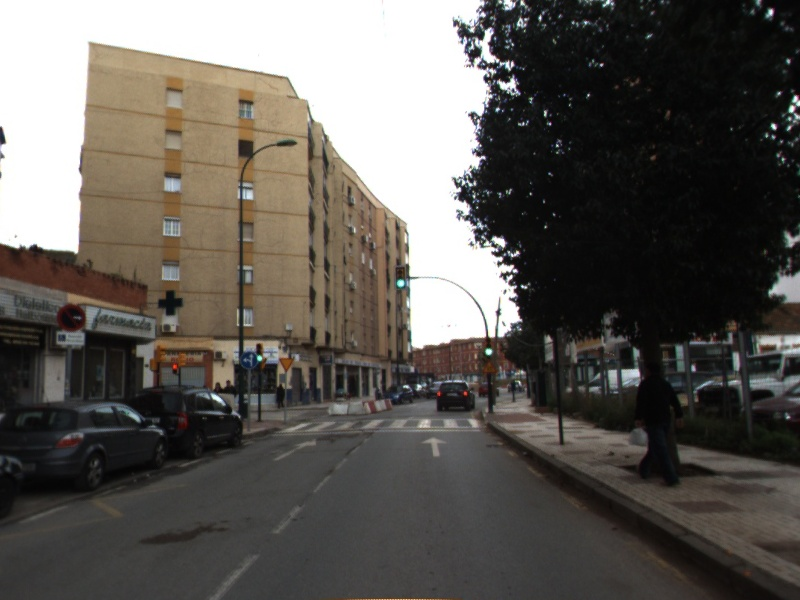STRAIGHT: (271, 437, 318, 463), (419, 435, 450, 459)
